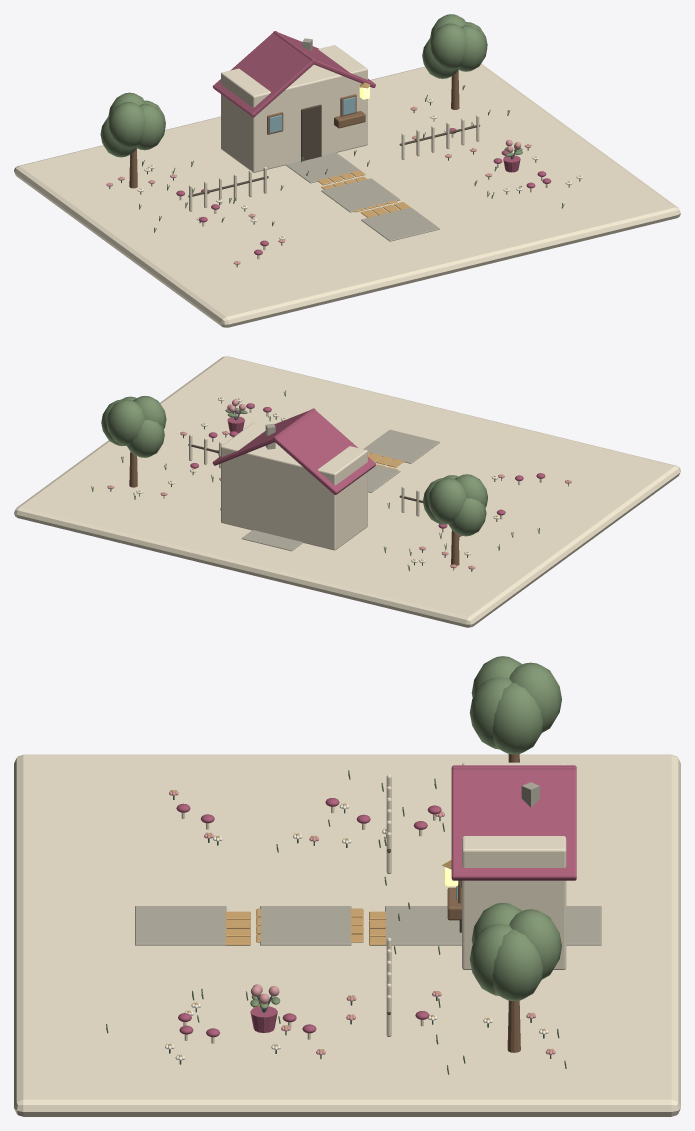
The model's file is red_cottage-C3bB7HFY.glb.
The picture shows the model from 3 angles, top to bottom: view 1: azimuth 30°, elevation 25°; view 2: azimuth 150°, elevation 25°; view 3: azimuth 270°, elevation 25°; orthographic projection. The views are drawn at different scales.
Visible parts, largest first — view 1: world_cream.029, world_leaf.029, world_rose.029, world_stone.029, world_darkwood.029, world_wood.029, world_bread.029; view 2: world_cream.029, world_leaf.029, world_rose.029, world_stone.029, world_wood.029; view 3: world_cream.029, world_leaf.029, world_rose.029, world_stone.029, world_bread.029, world_wood.029, world_flower.029.
Boxes of the visible parts, x1=… form: world_cream.029: x1=14, y1=45, x2=680, y2=327; world_leaf.029: x1=100, y1=14, x2=564, y2=232; world_rose.029: x1=176, y1=31, x2=551, y2=255; world_stone.029: x1=285, y1=38, x2=439, y2=241; world_darkwood.029: x1=188, y1=104, x2=480, y2=197; world_wood.029: x1=129, y1=70, x2=459, y2=188; world_bread.029: x1=317, y1=170, x2=410, y2=217; world_cream.029: x1=14, y1=356, x2=680, y2=627; world_leaf.029: x1=91, y1=390, x2=539, y2=571; world_rose.029: x1=190, y1=403, x2=545, y2=536; world_stone.029: x1=241, y1=423, x2=439, y2=551; world_wood.029: x1=129, y1=452, x2=459, y2=565; world_cream.029: x1=14, y1=754, x2=680, y2=1116; world_leaf.029: x1=106, y1=656, x2=566, y2=1074; world_rose.029: x1=176, y1=765, x2=576, y2=1037; world_stone.029: x1=135, y1=782, x2=601, y2=945; world_bread.029: x1=225, y1=908, x2=385, y2=945; world_wood.029: x1=447, y1=754, x2=520, y2=1052; world_flower.029: x1=169, y1=790, x2=555, y2=1055.
Bounding box in the file's own units: 20 × 4.72 × 16.
